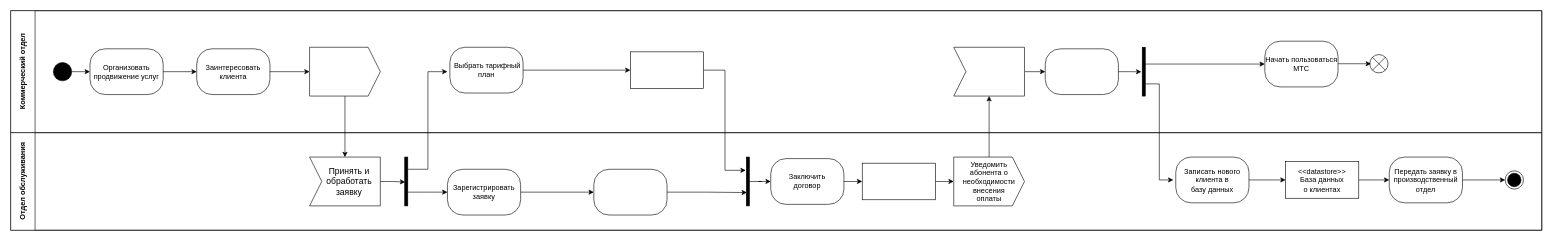
This 1552x241 diagram has some shape labels left out. The shapes that lost their labels are listed below. From the top down, each one's centre as x and y in pixels, then its label:
At (x=344, y=71): "Заявка на подключение к МТС".
At (x=667, y=69): "Тарифный план".
At (x=988, y=71): "Получение уведомления о недостатке средств".
At (x=1081, y=71): "Пополнить баланс".
At (x=630, y=192): "Определить размер оплаты".
At (x=898, y=181): "Договор".
